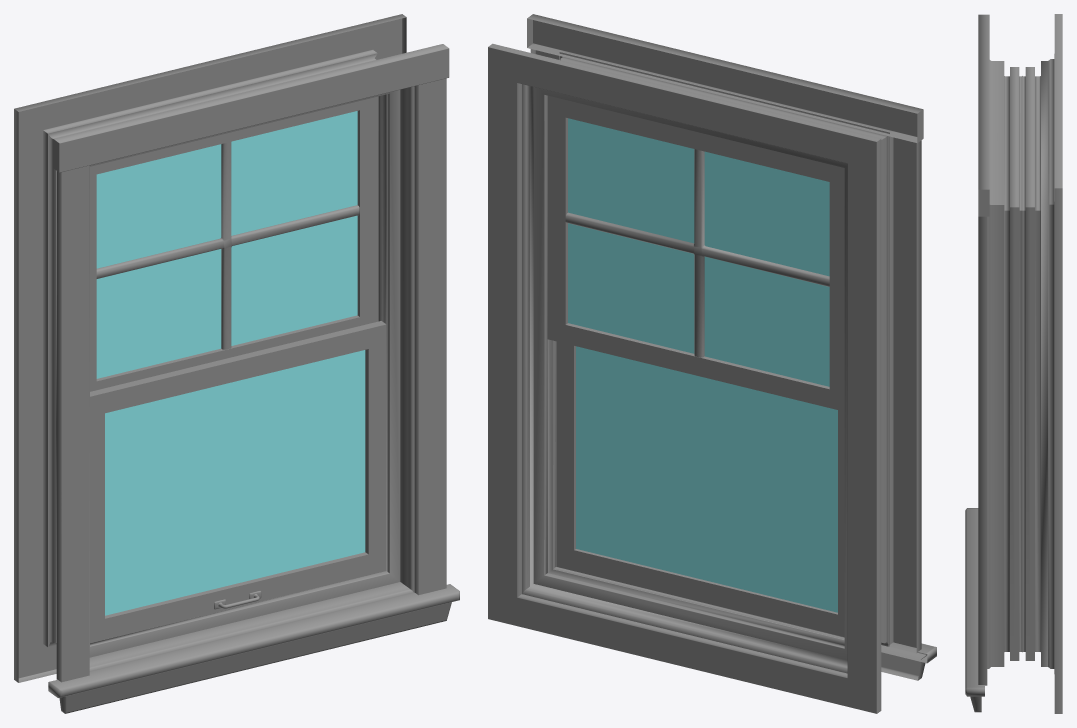
Rendered from Window_single_vinyl.FBX.
3 views of the same model, side by side, from view 1: azimuth 30°, elevation 25°; view 2: azimuth 150°, elevation 25°; view 3: azimuth 270°, elevation 25° (orthographic). The views are drawn at different scales.
Parts seen in each view (by area): view 1: Window_single_vinyl, Windowglass_A, Windowglass_B, Window_single_vinyl_openable; view 2: Window_single_vinyl, Windowglass_A, Windowglass_B, Window_single_vinyl_openable; view 3: Window_single_vinyl.
Boxes of the visible parts, x1,y1,x2,y2 form: Window_single_vinyl: (14,14,459,713); Windowglass_A: (105,350,365,615); Windowglass_B: (96,111,357,378); Window_single_vinyl_openable: (90,321,386,643); Window_single_vinyl: (488,14,936,713); Windowglass_A: (576,346,837,612); Windowglass_B: (568,118,829,386); Window_single_vinyl_openable: (556,341,844,636); Window_single_vinyl: (965,14,1062,713).
Size of the model in its own units: 120 by 163 by 27.46.
